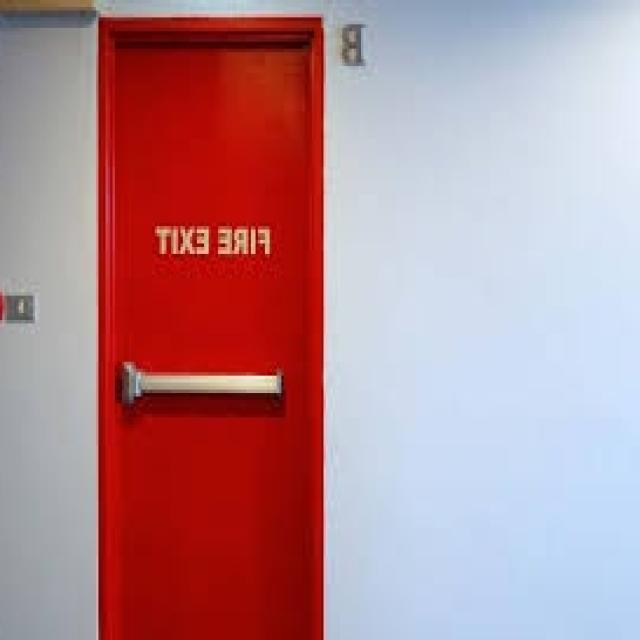door: (96, 14, 326, 640)
